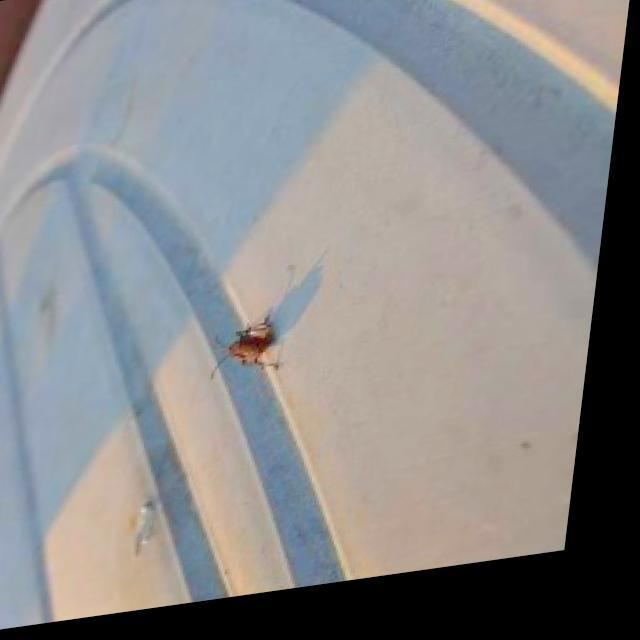cockroach: (206, 309, 284, 384)
